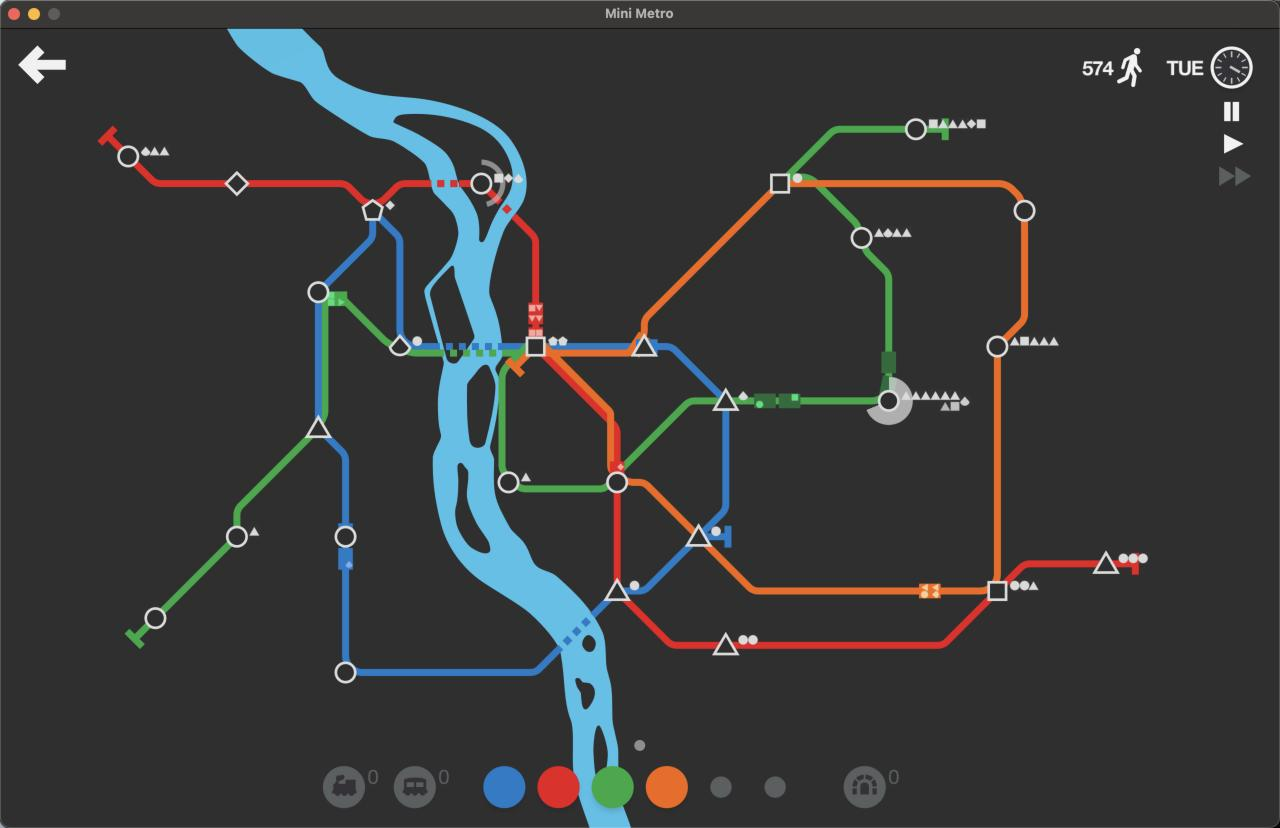CIRCLE: (470, 171, 494, 196), (334, 524, 357, 549), (116, 145, 140, 168), (905, 117, 928, 141), (144, 606, 167, 630), (225, 525, 248, 549), (307, 280, 330, 304), (606, 470, 629, 494), (986, 334, 1009, 358), (849, 226, 873, 249), (334, 661, 357, 684), (1013, 199, 1036, 222), (877, 389, 900, 412), (497, 471, 519, 494)
GEM: (225, 171, 249, 196)
PENTAGON: (361, 198, 383, 221)
SQUARE: (525, 335, 547, 357), (770, 172, 791, 194), (987, 580, 1008, 602)
TRIANGLE: (712, 631, 740, 657), (1091, 549, 1120, 574), (685, 522, 712, 547), (712, 387, 739, 412), (305, 416, 332, 439), (605, 578, 630, 602), (632, 334, 658, 357)
WEDGE: (389, 334, 411, 356)
